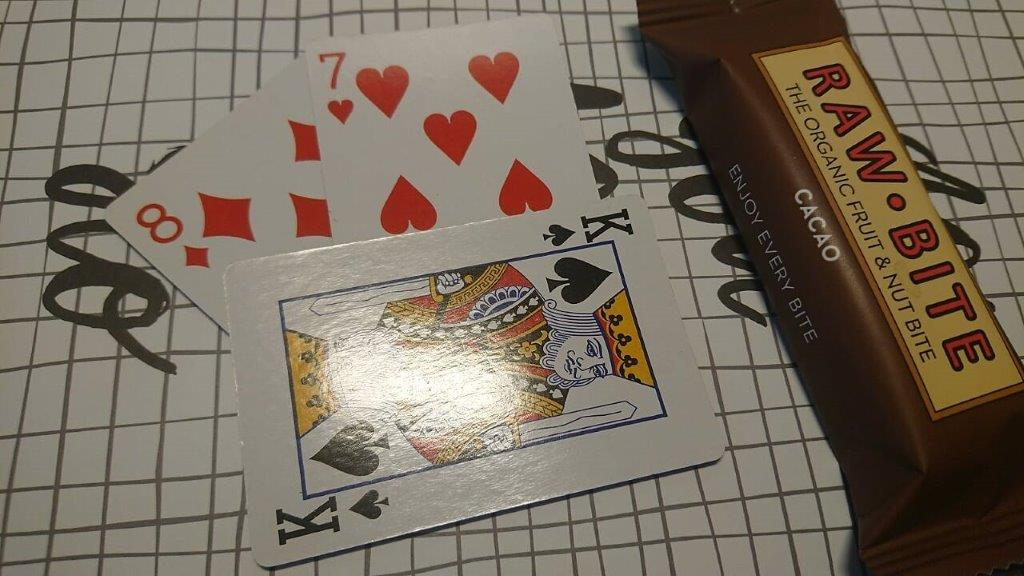7H: (313, 48, 357, 128)
8D: (131, 200, 215, 273)
